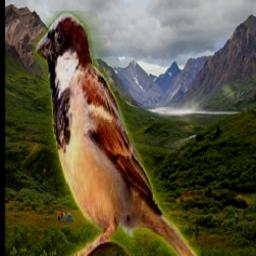Sparrow: (34, 11, 202, 256)
